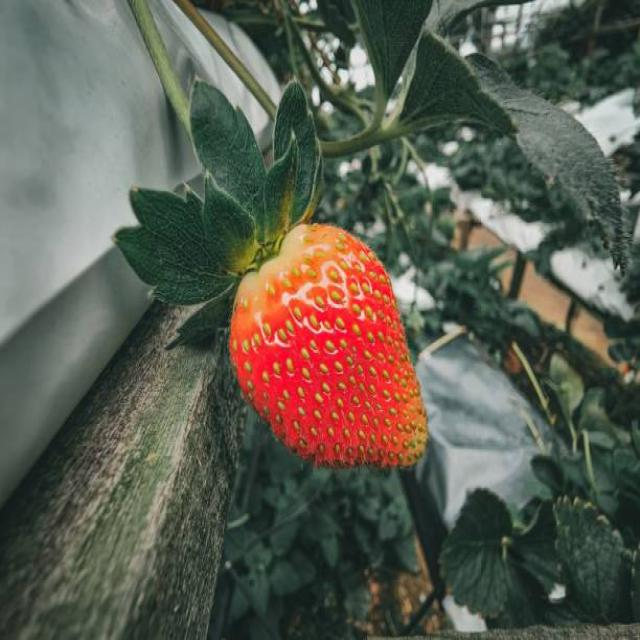Healthy Fruit: (228, 222, 428, 469)
